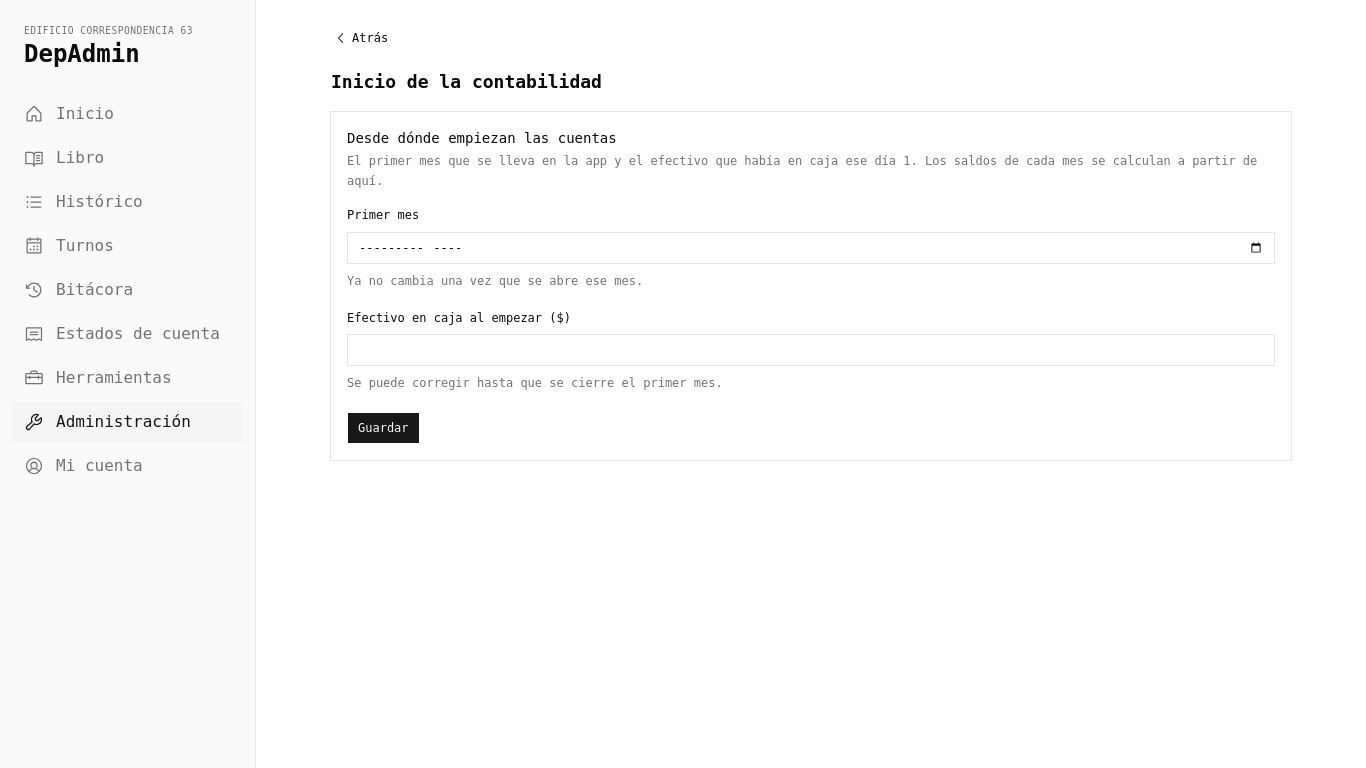
ReportingStartPage › saves the first month and the cash on hand in centavos
The image size is (1366, 768).
Type "2026-08" into the field labelled "Primer mes" at (811, 248), box [347,232,1275,264]
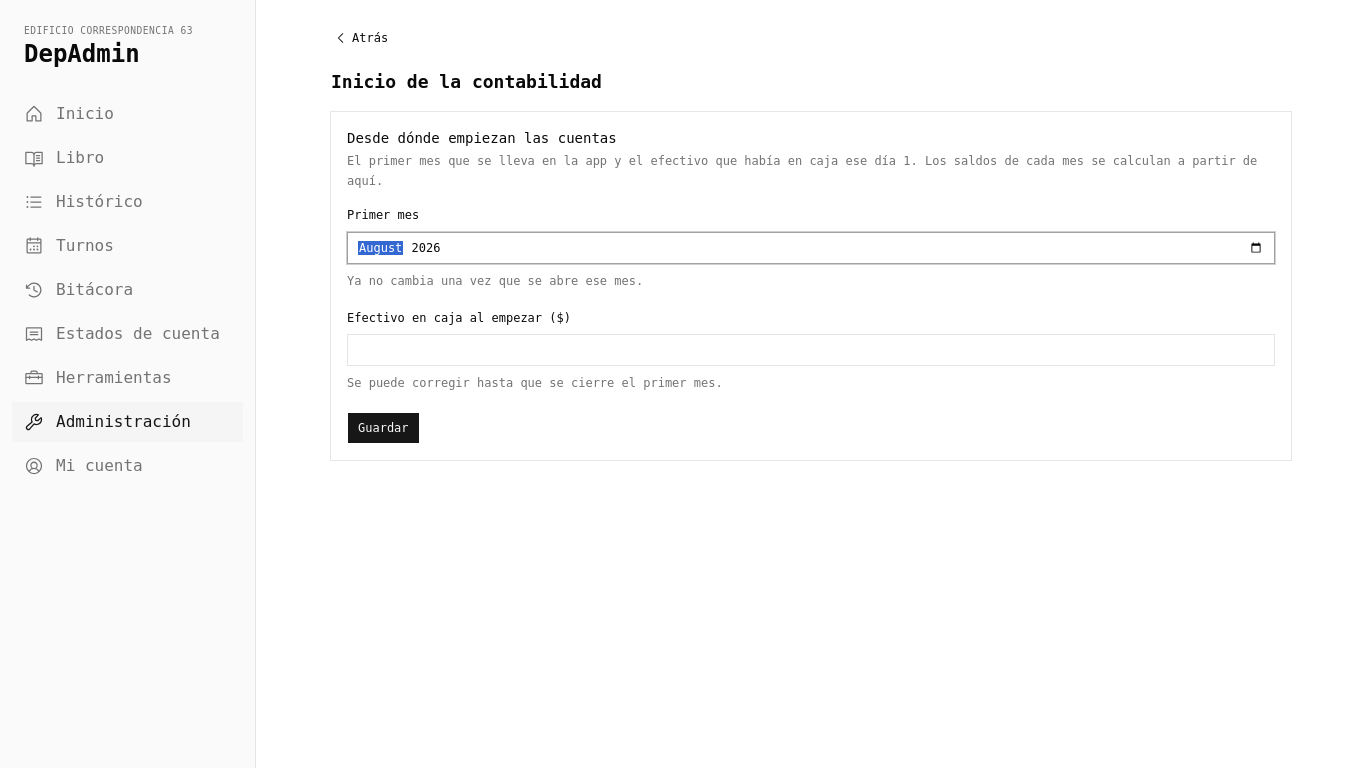
Type "5230.50" into the field labelled "Efectivo en caja al empezar ($)" at (811, 350), box [347,334,1275,366]
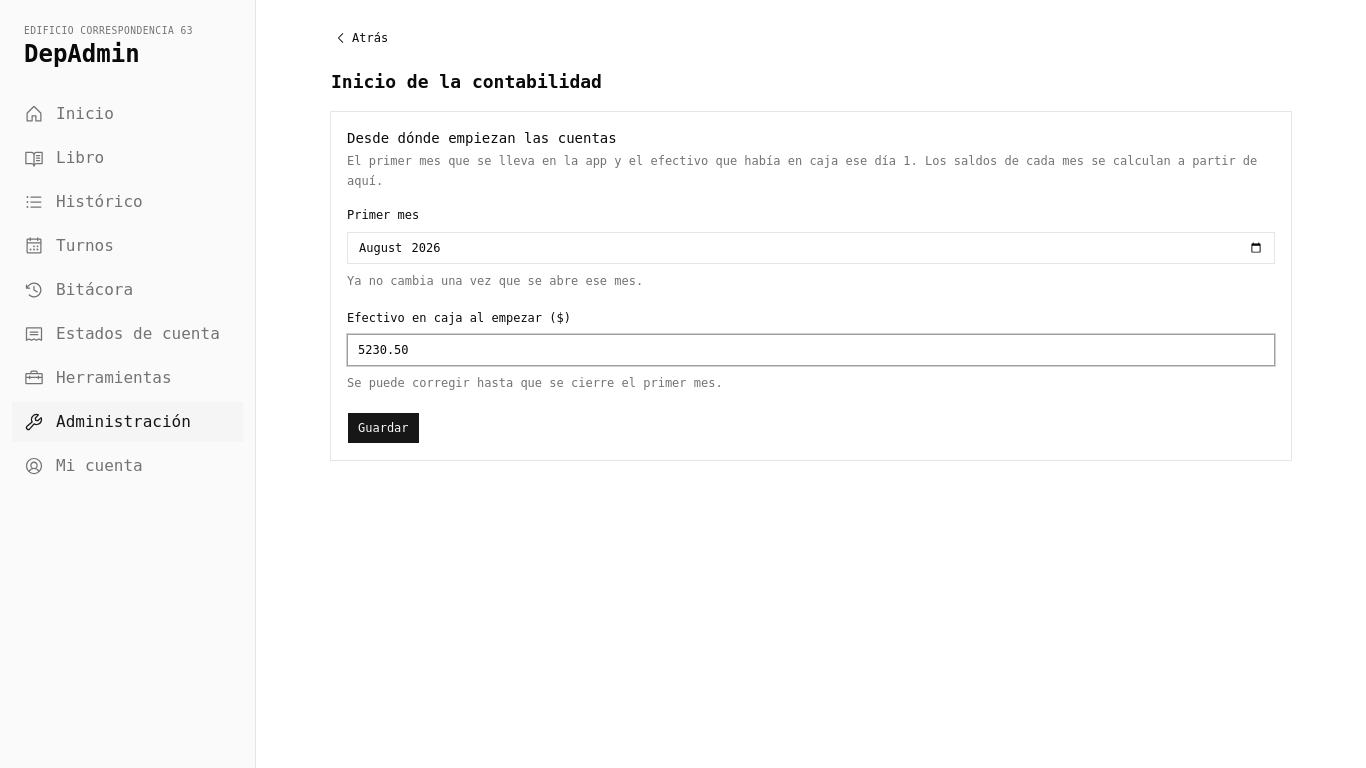
Click the button "Guardar" at (383, 428), box [347,412,420,444]
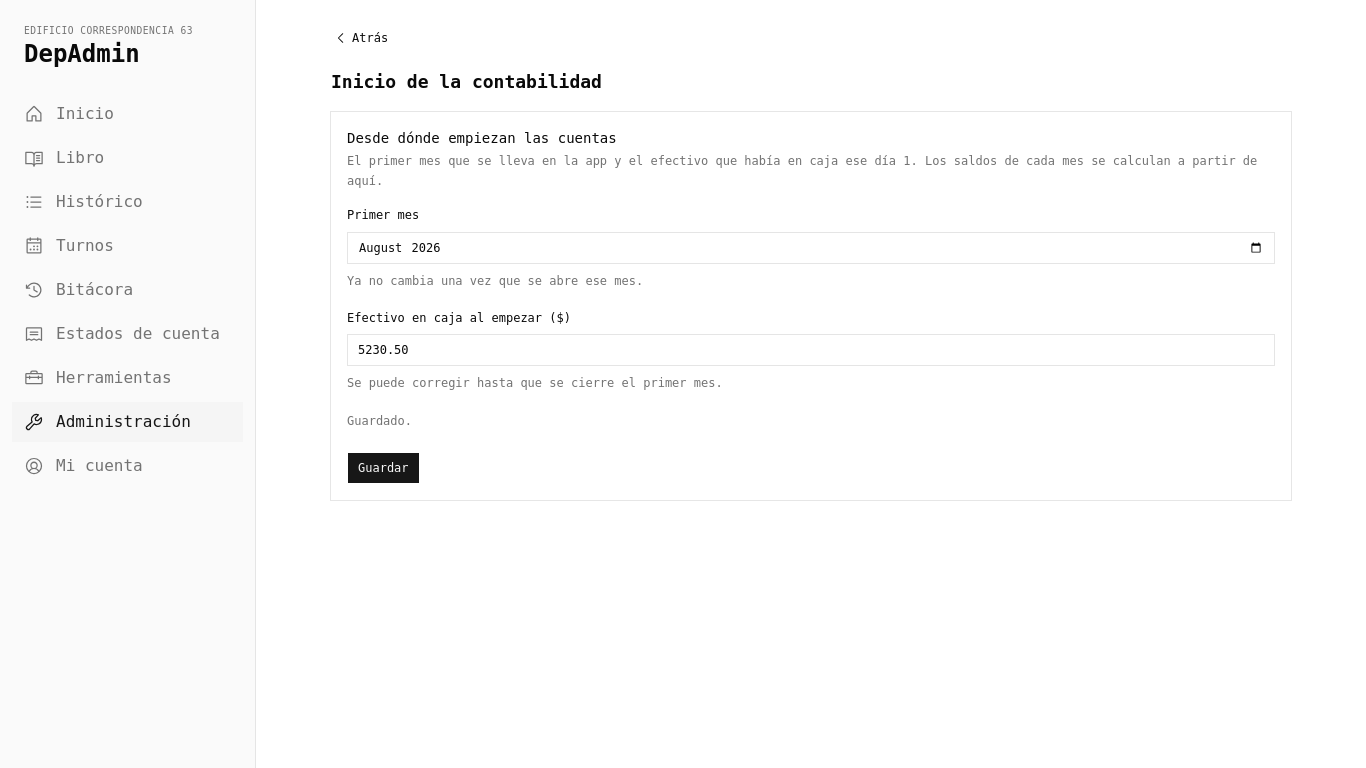
Result: the message reads "Guardado." at [347,414,412,428]
